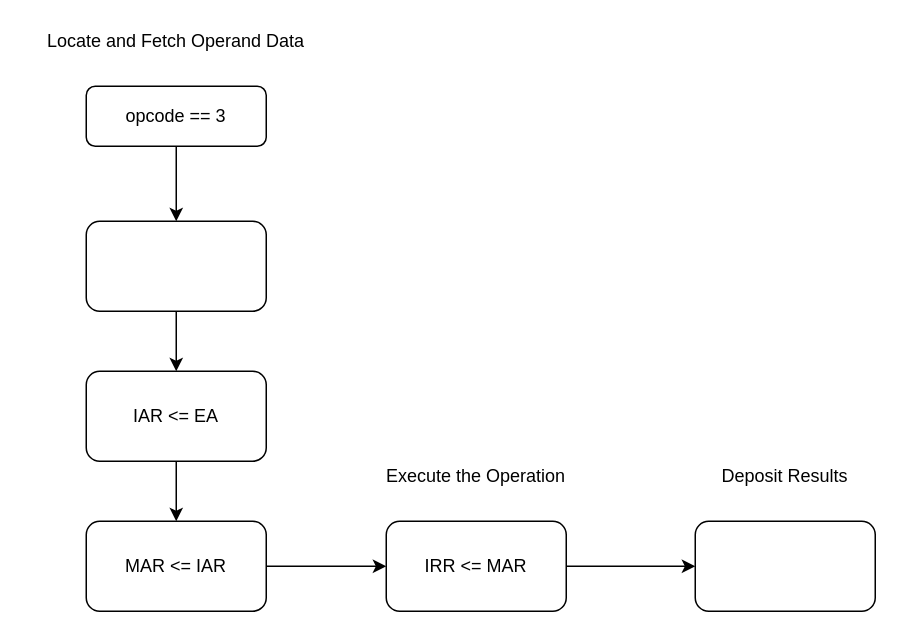
The diagram is 902 pixels wide and 638 high, and some of its shapes have lost their labels. Each missing label, with the centre of its shape:
"calculate EA" goes at point (175, 265).
"GPR <= IRR" goes at point (784, 565).
